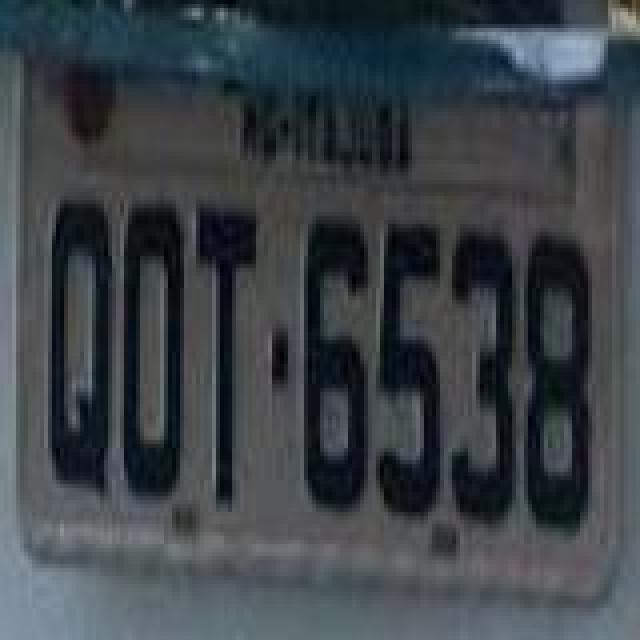3: (446, 220, 514, 532)
5: (372, 216, 444, 528)
6: (302, 208, 370, 520)
8: (520, 230, 592, 538)
O: (118, 196, 186, 508)
Q: (46, 196, 114, 508)
T: (192, 200, 256, 512)
